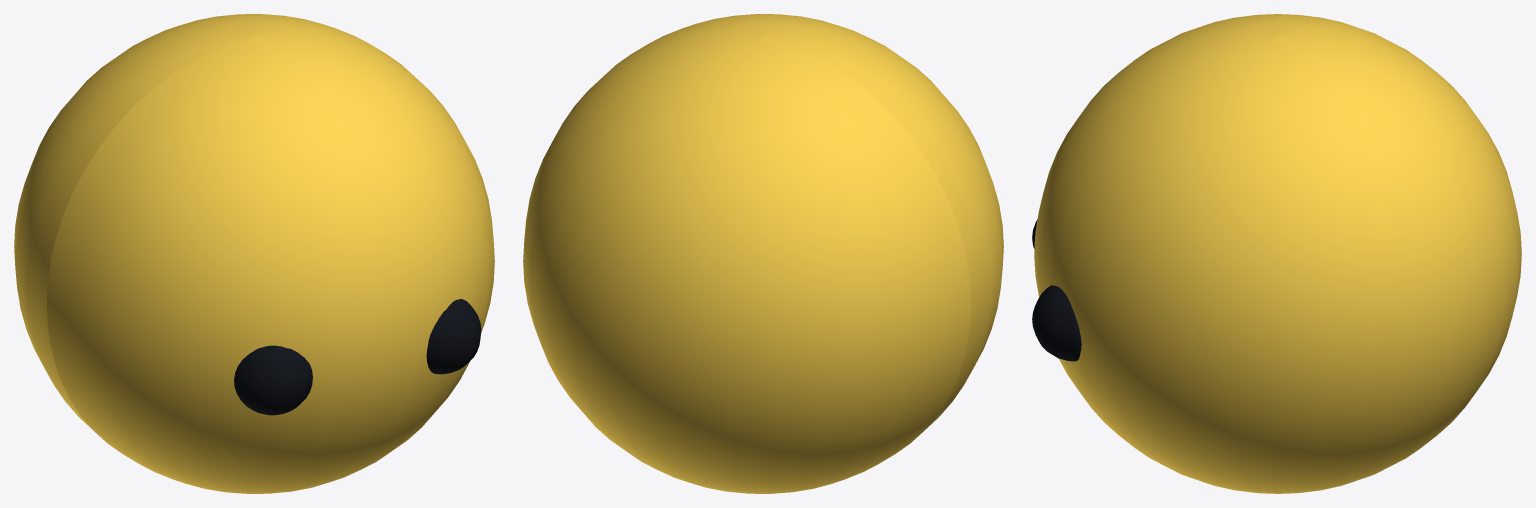
Rendered from head.glb.
3 views of the same model, side by side, from view 1: azimuth 30°, elevation 25°; view 2: azimuth 150°, elevation 25°; view 3: azimuth 270°, elevation 25° (orthographic).
Parts seen in each view (by area): view 1: Head_Skin, Eye_L_Mesh, Eye_R_Mesh; view 2: Head_Skin; view 3: Head_Skin, Eye_R_Mesh.
Part boxes in pixels (x1=…): Head_Skin: x1=14, y1=14, x2=494, y2=493; Eye_L_Mesh: x1=234, y1=345, x2=312, y2=415; Eye_R_Mesh: x1=426, y1=299, x2=481, y2=374; Head_Skin: x1=523, y1=14, x2=1003, y2=493; Head_Skin: x1=1034, y1=14, x2=1521, y2=493; Eye_R_Mesh: x1=1032, y1=285, x2=1081, y2=361.
Size of the model in its own units: 0.4737 by 0.4737 by 0.4829.
